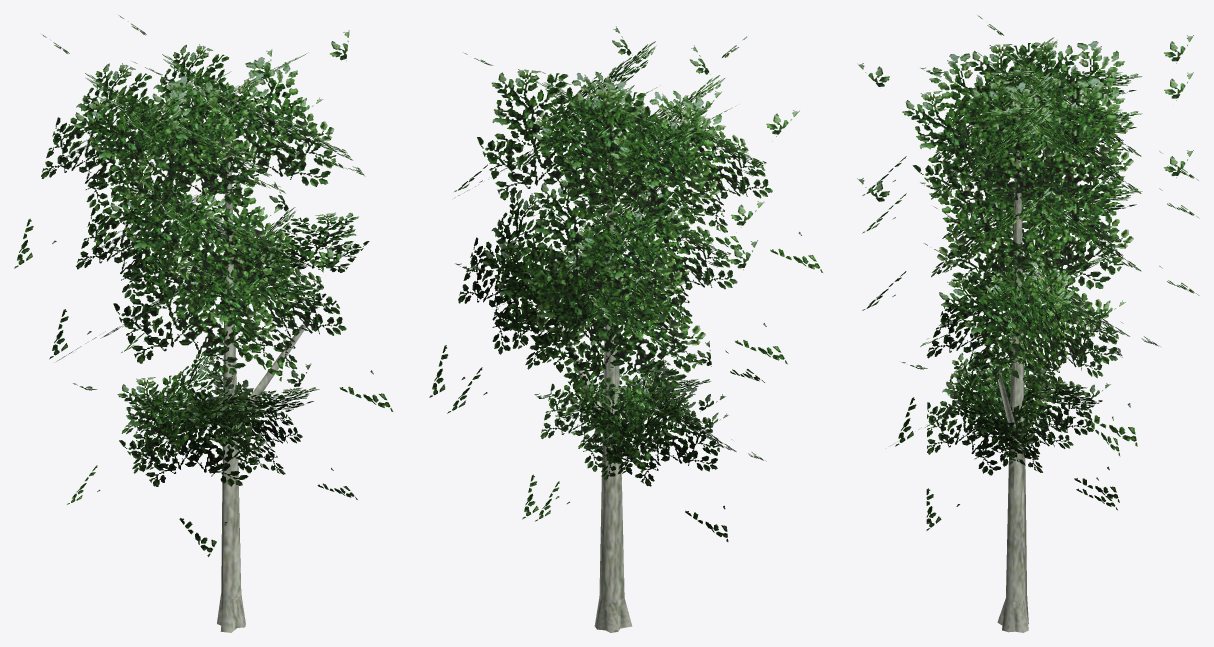
Rendered from beech-2.glb.
3 renders of one model, left to right at view 1: azimuth 30°, elevation 25°; view 2: azimuth 150°, elevation 25°; view 3: azimuth 270°, elevation 25°, orthographic.
Parts seen in each view (by area): view 1: beech-2; view 2: beech-2; view 3: beech-2.
Part boxes in pixels (x1,y1,x2,y2): beech-2: [14, 15, 393, 632]; beech-2: [429, 26, 822, 632]; beech-2: [857, 15, 1199, 632].
Size of the model in its own units: 11.75 by 17.16 by 9.96.
2 materials, 2 textured.
